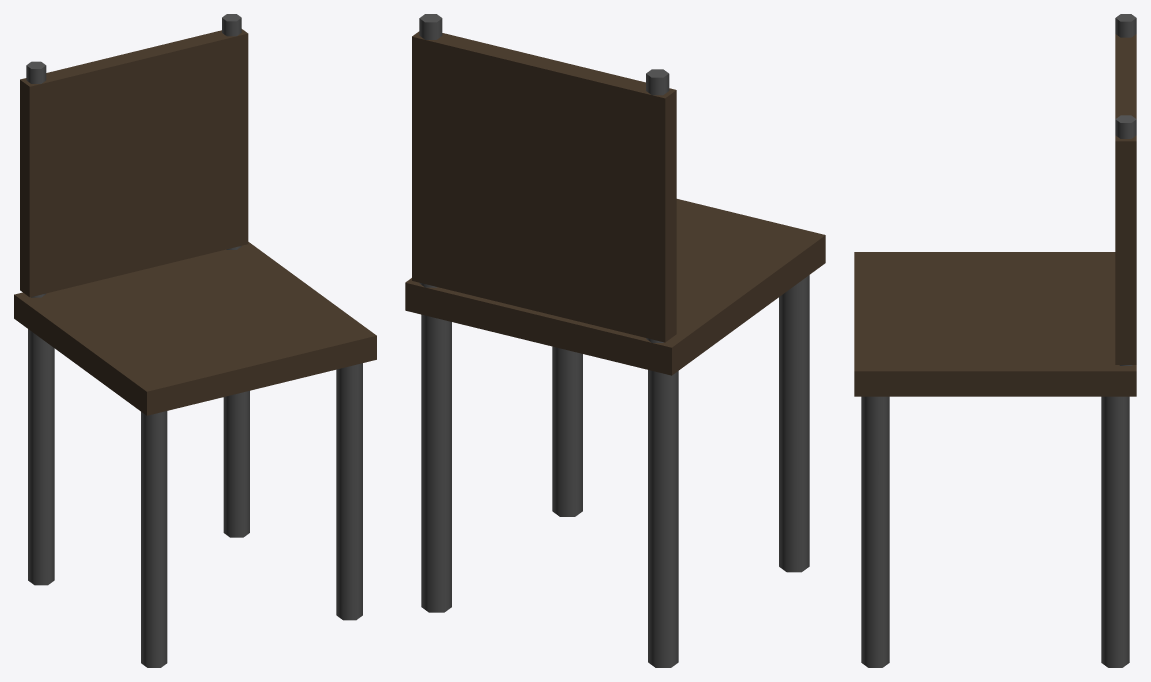
Rendered from chair.glb.
3 renders of one model, left to right at view 1: azimuth 30°, elevation 25°; view 2: azimuth 150°, elevation 25°; view 3: azimuth 270°, elevation 25°, orthographic. The views are drawn at different scales.
Size of the model in its own units: 0.4 by 0.85 by 0.4.
